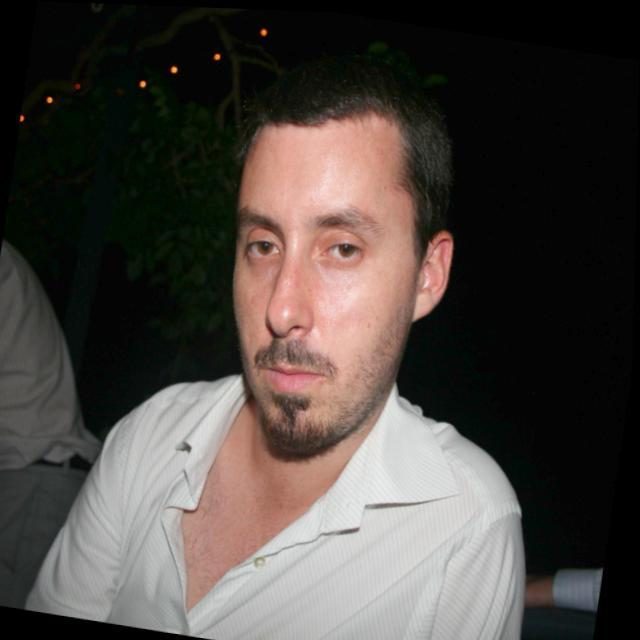Puffy Eyes - v3 Dark Circle: (316, 257, 361, 280), (250, 252, 281, 278)
